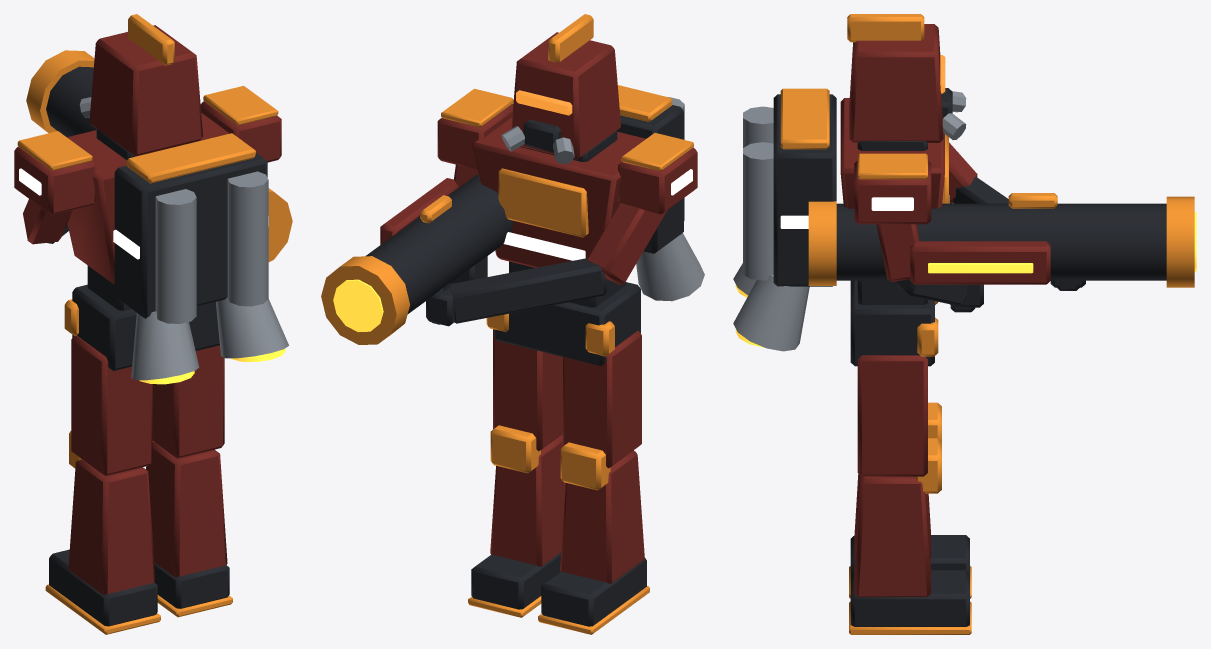
The model's file is hero_ember.glb.
The picture shows the model from 3 angles, left to right: view 1: azimuth 30°, elevation 25°; view 2: azimuth 150°, elevation 25°; view 3: azimuth 270°, elevation 25°; orthographic projection. The views are drawn at different scales.
Visible parts, largest first — view 1: torso, legL, legR, head, armL, weapon, hips, armR; view 2: legL, torso, legR, weapon, armL, head, hips, armR; view 3: weapon, torso, legR, head, armR, hips, legL, armL.
Boxes of the visible parts, box(x1,y1,x2,y2) form: torso: box(67, 113, 288, 384); legL: box(45, 335, 160, 634); legR: box(146, 345, 232, 617); head: box(79, 14, 202, 156); armL: box(14, 131, 95, 244); weapon: box(26, 50, 292, 261); hips: box(64, 284, 219, 370); armR: box(200, 85, 281, 162); legL: box(538, 331, 649, 634); torso: box(472, 85, 704, 307); legR: box(468, 329, 565, 617); weapon: box(321, 175, 513, 344); armL: box(426, 133, 697, 326); head: box(501, 14, 620, 164); hips: box(486, 282, 640, 365); armR: box(437, 88, 513, 283); weapon: box(808, 193, 1196, 312); torso: box(733, 88, 949, 351); legR: box(849, 355, 971, 634); head: box(847, 14, 966, 142); armR: box(854, 153, 983, 307); hips: box(850, 280, 938, 366); legL: box(849, 402, 971, 598); armL: box(949, 142, 1085, 287).
Bounding box in the file's own units: 0.798 × 1.85 × 1.32.
